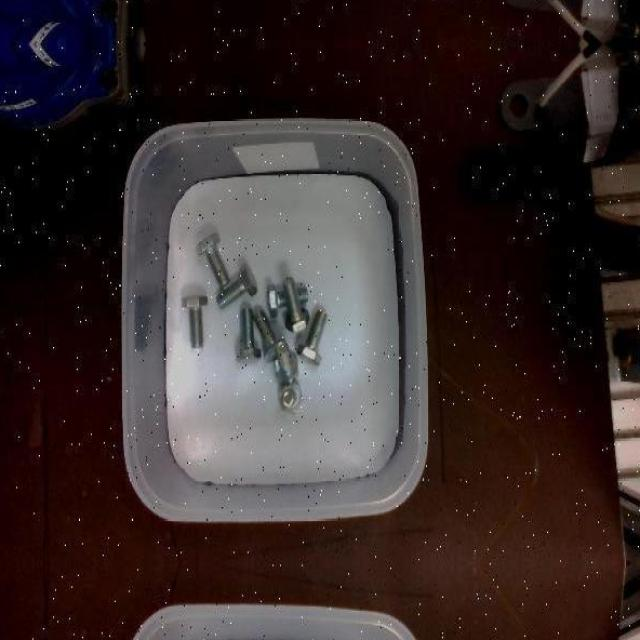screw: (195, 231, 232, 286), (216, 264, 258, 310), (297, 310, 329, 366), (284, 276, 312, 332), (180, 295, 208, 347), (236, 308, 260, 363), (276, 341, 300, 384)
